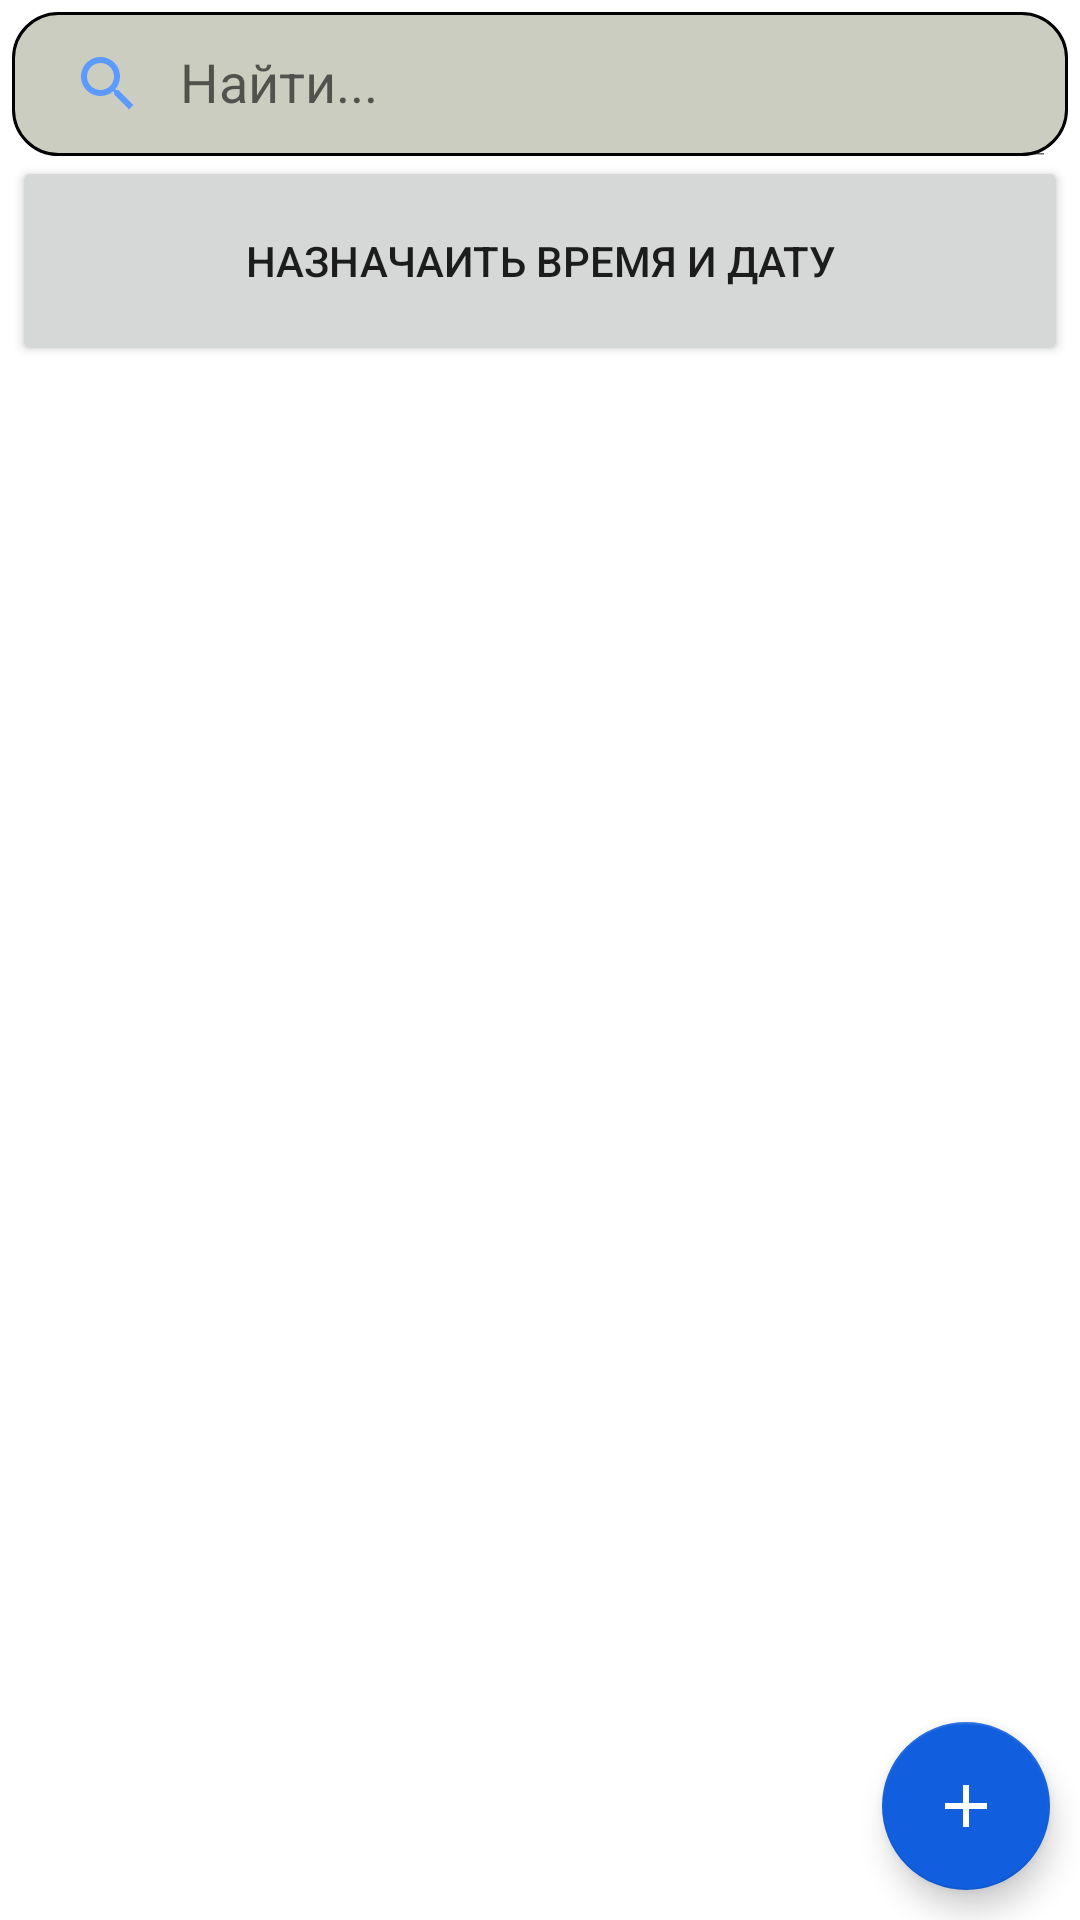

Named icons in this screenshot (1080×1920) and their bounding boxes, Rect(x1, y1, x2, y2):
add: Rect(882, 1722, 1050, 1890)
